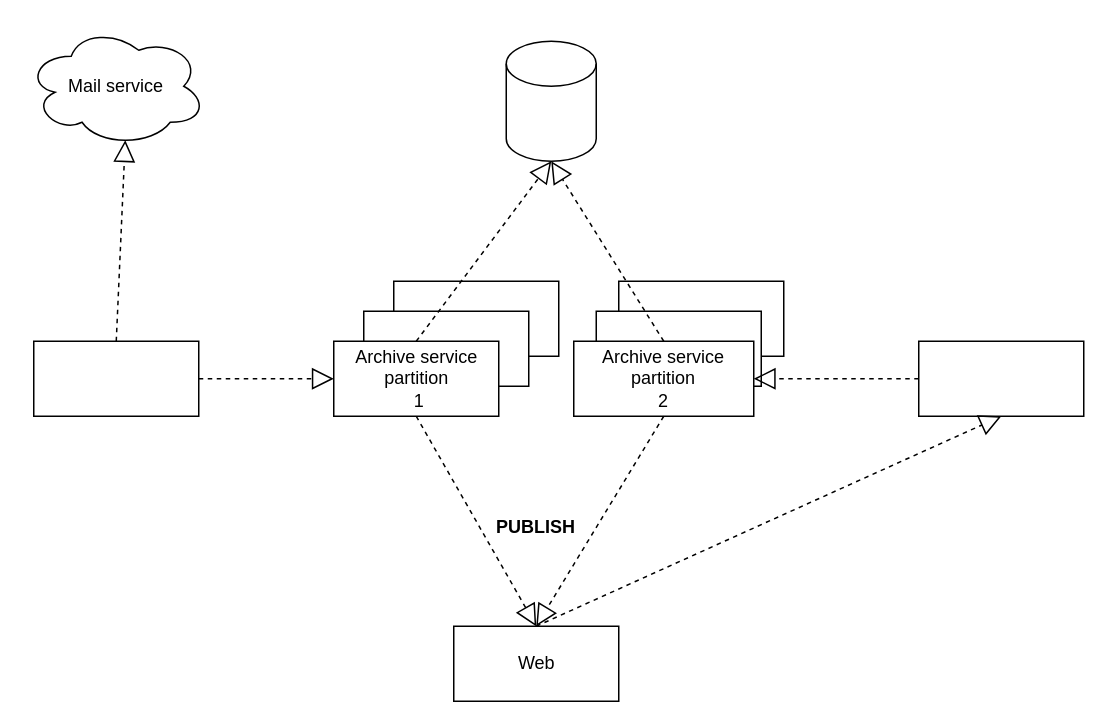
Some shapes in this 1110 by 728 pixel diagram are drawn without their labels. Each missing label, with the box of its shape:
DB: (505, 40, 596, 161)
Registration by app service: (917, 340, 1084, 416)
Registration by mail service: (32, 340, 199, 416)
